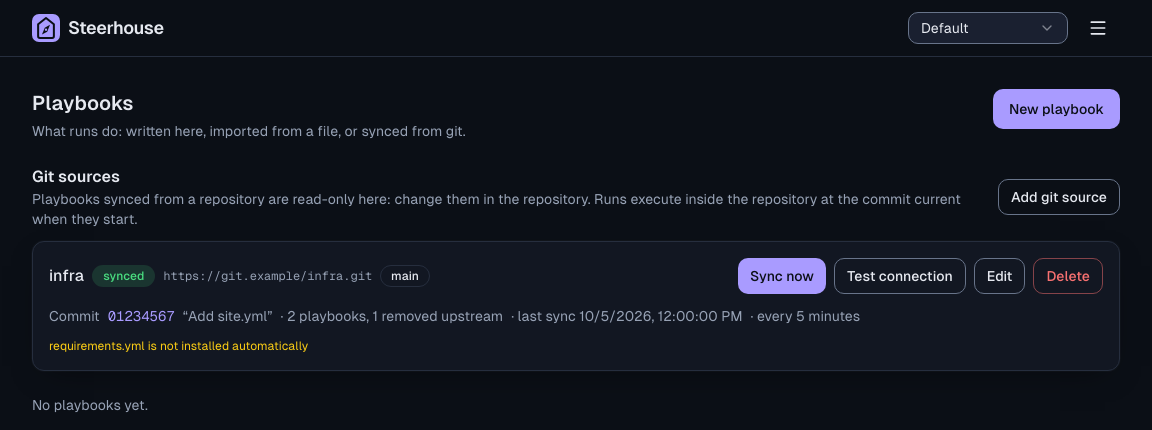
Test: git sources › shows a source's commit, status and warnings, and syncs it
The image size is (1152, 430).
Expected: the text "synced" is shown, [92, 265, 155, 287]
Expected: the text "· 2 playbooks, 1 removed upstream" is shown, [281, 306, 503, 326]
Step 1. Click the button "Sync now" → (782,276), box [738, 258, 826, 294]
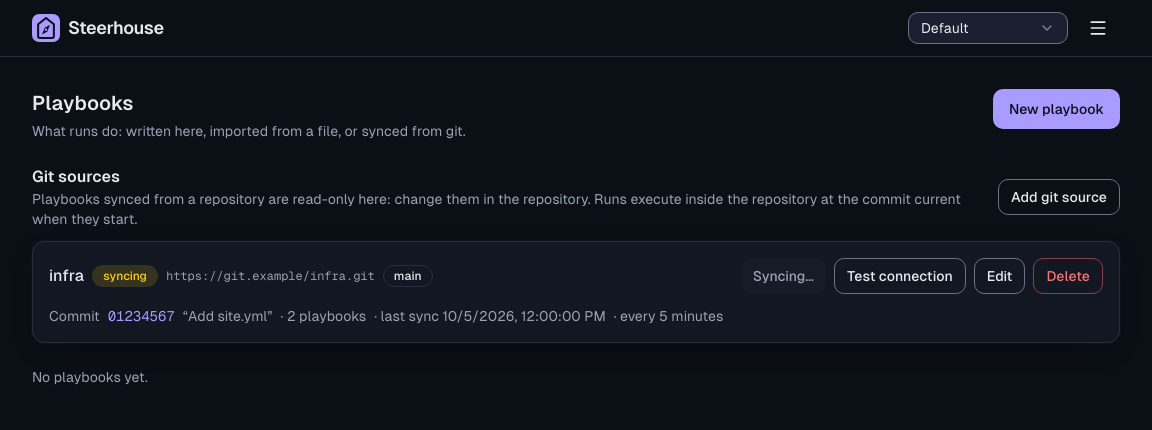
Result: the button "Syncing…" is disabled at [741, 258, 826, 294]
